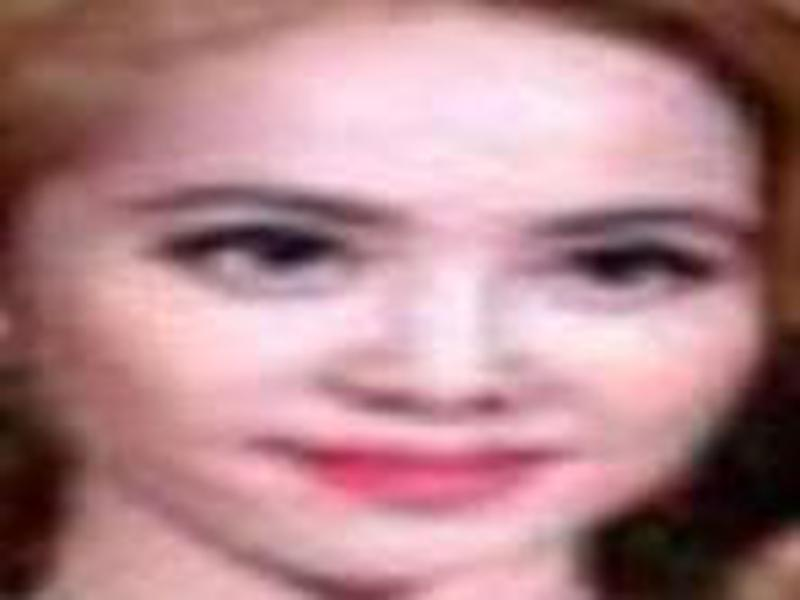without_mask: (17, 85, 772, 595)
